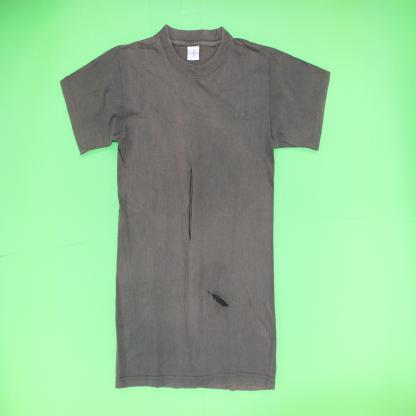hole: (186, 159, 195, 244), (206, 289, 231, 309)
